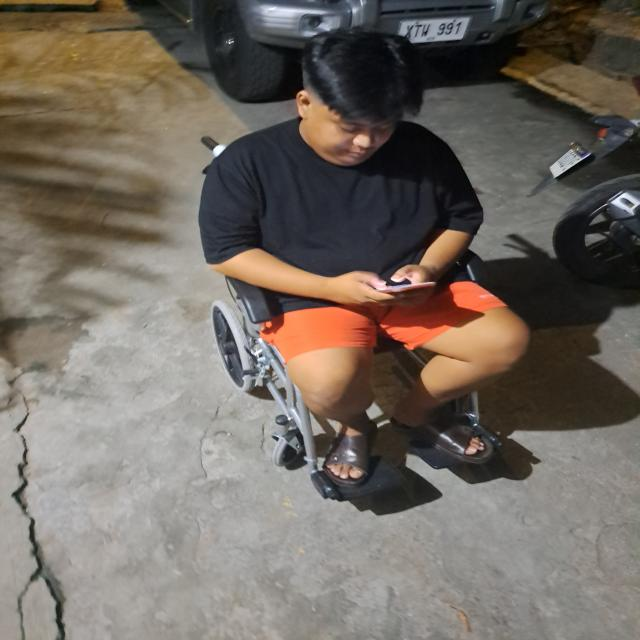wheelchairs: (201, 260, 533, 498)
